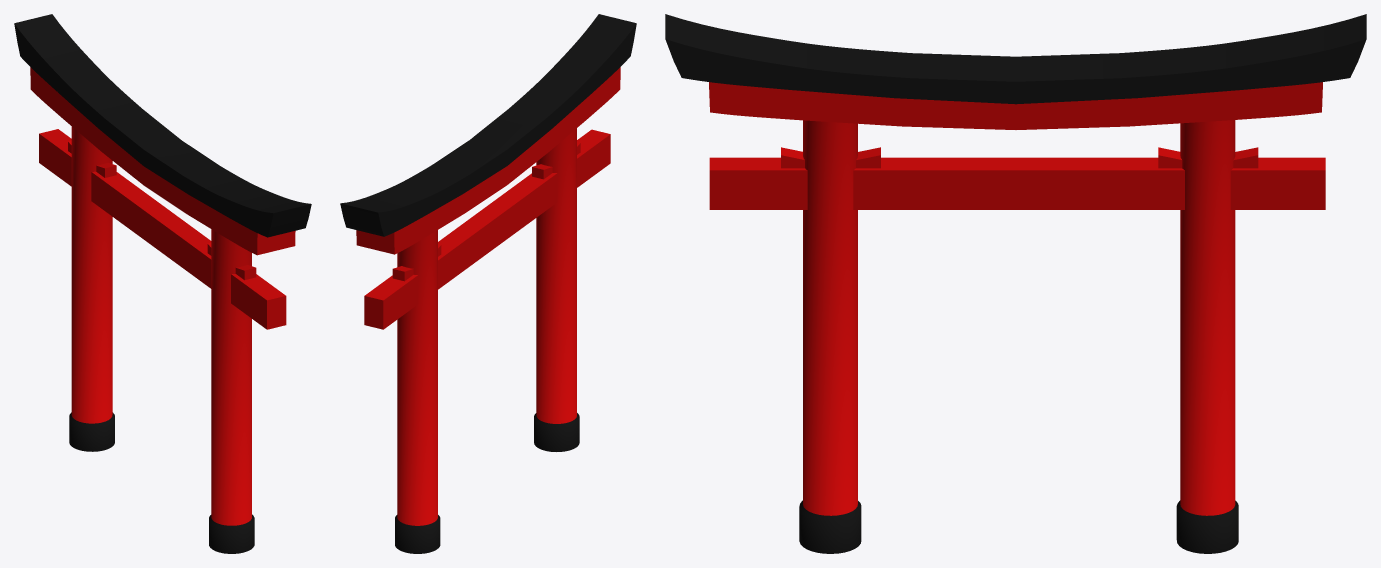
File: Arc.FBX
3 views of the same model, side by side, from view 1: azimuth 30°, elevation 25°; view 2: azimuth 150°, elevation 25°; view 3: azimuth 270°, elevation 25° (orthographic). The views are drawn at different scales.
Visible parts, largest first — view 1: Arc; view 2: Arc; view 3: Arc.
Boxes of the visible parts, x1=… form: Arc: x1=14, y1=14, x2=311, y2=553; Arc: x1=340, y1=14, x2=636, y2=553; Arc: x1=665, y1=14, x2=1366, y2=553.
Size of the model in its own units: 42.73 by 391 by 483.
Materials: 1 (1 with a texture image).
